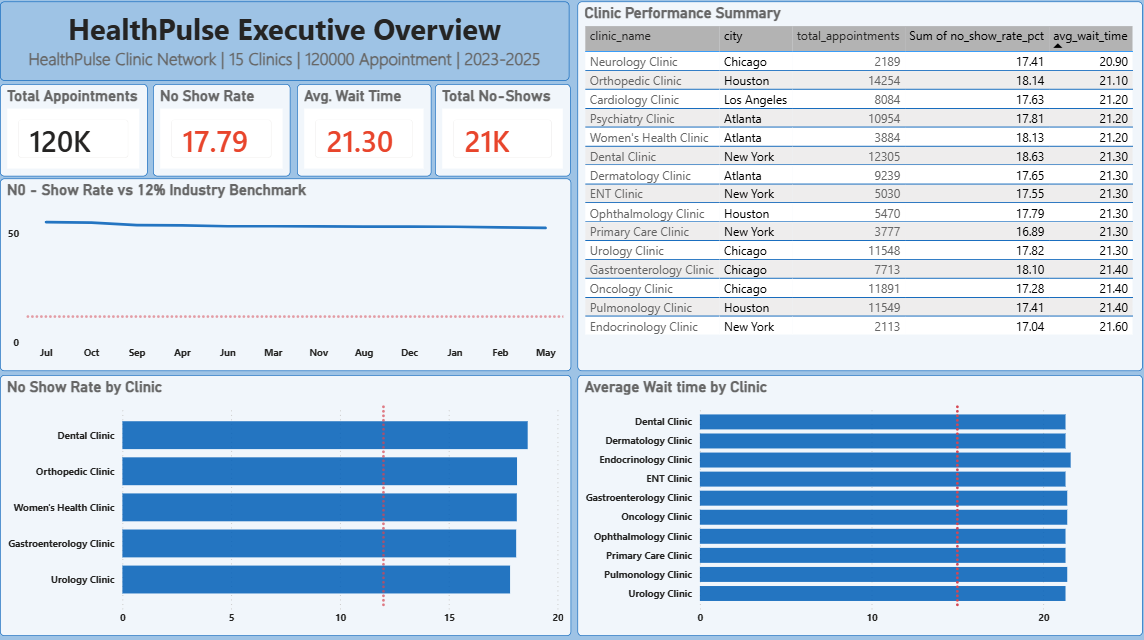

The dashboard page shown, as its layout file describes it:
{"tool":"powerbi","page":{"name":"Executive Overview","canvas":[1280,720],"ordinal":0},"visuals":[{"type":"cardVisual","title":"Total Appointments","fields":{"Data":["Measure.Total Appointments"]},"box":[6.6,96.1,164,102.7],"z":0},{"type":"cardVisual","title":"No Show Rate","fields":{"Data":["Measure.No Show Rate"]},"box":[177.2,96.1,152.4,102.7],"z":1000},{"type":"cardVisual","title":"Avg. Wait Time","fields":{"Data":["Measure.Avg Wait Time"]},"box":[336.3,96.1,149.1,102.7],"z":2000},{"type":"cardVisual","title":"Total No-Shows","fields":{"Data":["Measure.Total No Shows"]},"box":[490.3,96.1,150.7,102.7],"z":3000},{"type":"lineChart","title":"N0 - Show Rate vs  12% Industry Benchmark","fields":{"Category":["Monthly Trend.month_name"],"Y":["Sum(Monthly Trend.no_show_rate_pct)"]},"box":[6.6,202.1,634.4,213.7],"z":4000},{"type":"clusteredBarChart","title":"No Show Rate by Clinic ","fields":{"Category":["City Performance.clinic_name"],"Y":["Sum(City Performance.no_show_rate_pct)"]},"box":[6.6,420.7,634.4,289.9],"z":5000},{"type":"clusteredBarChart","title":"Average Wait time by Clinic","fields":{"Category":["City Performance.clinic_name"],"Y":["Sum(City Performance.avg_wait_time)"]},"box":[647.7,420.7,627.8,289.9],"z":6000},{"type":"tableEx","title":"Clinic Performance Summary","fields":{"Values":["City Performance.clinic_name","City Performance.city","City Performance.total_appointments","Sum(City Performance.no_show_rate_pct)","City Performance.avg_wait_time"]},"box":[647.7,5,627.8,410.8],"z":7000},{"type":"textbox","box":[6.6,5,632.8,87.8],"z":8000}]}

Visuals, with their boxes in screenshot pixels (x1, y1, x2, y2), scaled from the page's 1280x720 canvas onto the 1144x640 screenshot:
"Total Appointments" cardVisual: 6, 85, 152, 177
"No Show Rate" cardVisual: 158, 85, 295, 177
"Avg. Wait Time" cardVisual: 301, 85, 434, 177
"Total No-Shows" cardVisual: 438, 85, 573, 177
"N0 - Show Rate vs  12% Industry Benchmark" lineChart: 6, 180, 573, 370
"No Show Rate by Clinic " clusteredBarChart: 6, 374, 573, 632
"Average Wait time by Clinic" clusteredBarChart: 579, 374, 1140, 632
"Clinic Performance Summary" tableEx: 579, 4, 1140, 370
textbox: 6, 4, 571, 82
